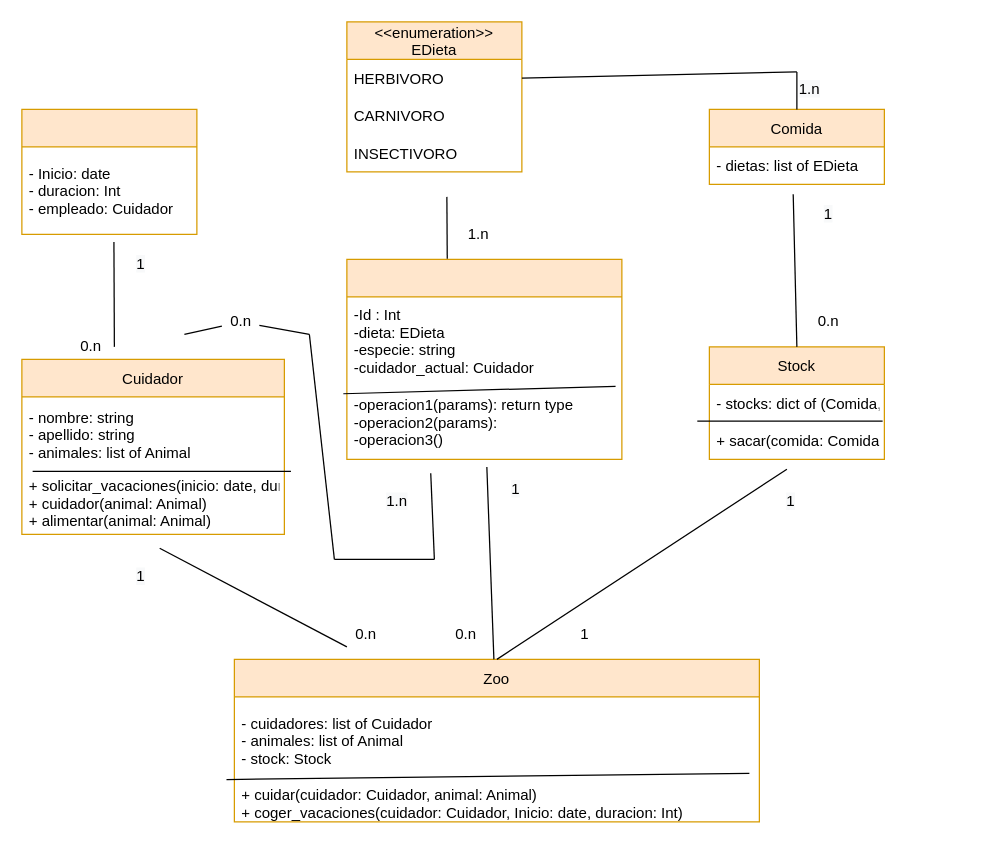
The diagram is 995 pixels wide and 844 high, and some of its shapes have lost their labels. Each missing label, with the box of its shape:
Animal: (346, 258, 622, 459)
Vacaciones: (21, 108, 197, 234)
